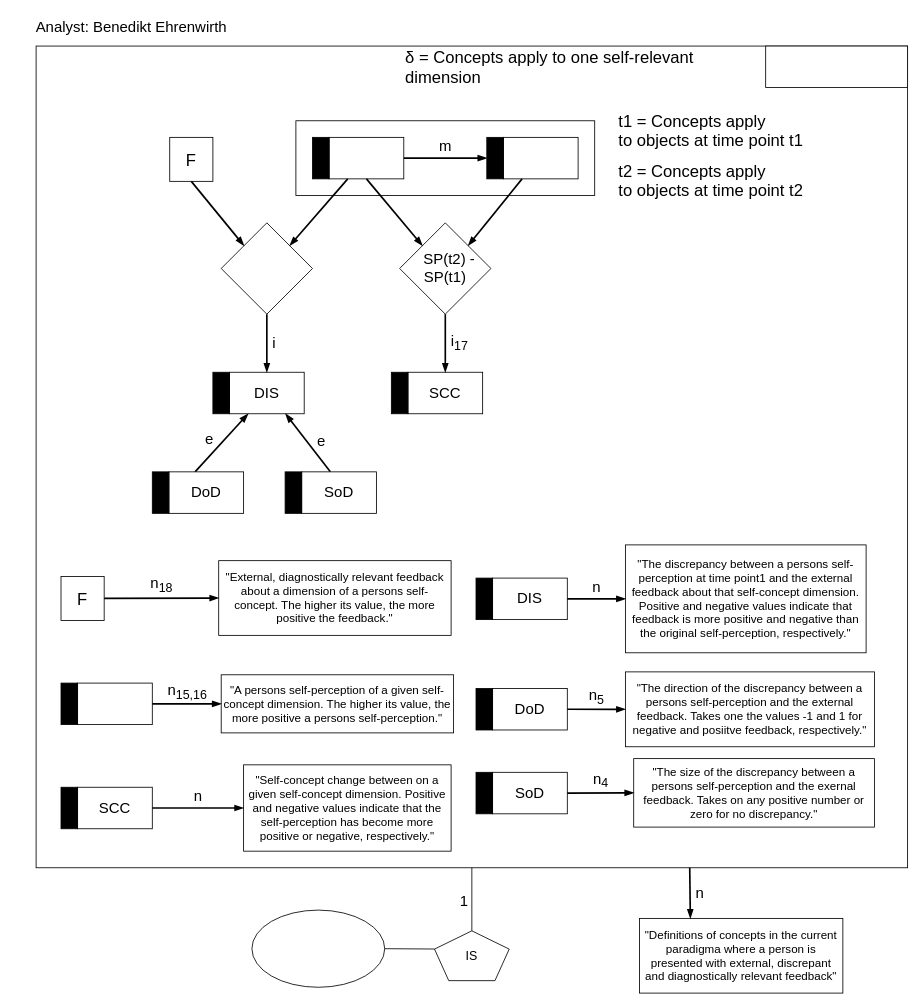
Image size: 922x1008. Some labels were removed from this diagram. The centre of each missing label's shape, as x and y in pixels:
Brotzeller & Gollwitzer (2025): (x=318, y=948)
DEF( δ ): (x=836, y=66)
F - SP(t1): (x=266, y=268)
SP: (x=114, y=703)
SP(t1): (x=366, y=158)
SP(t2): (x=540, y=158)
